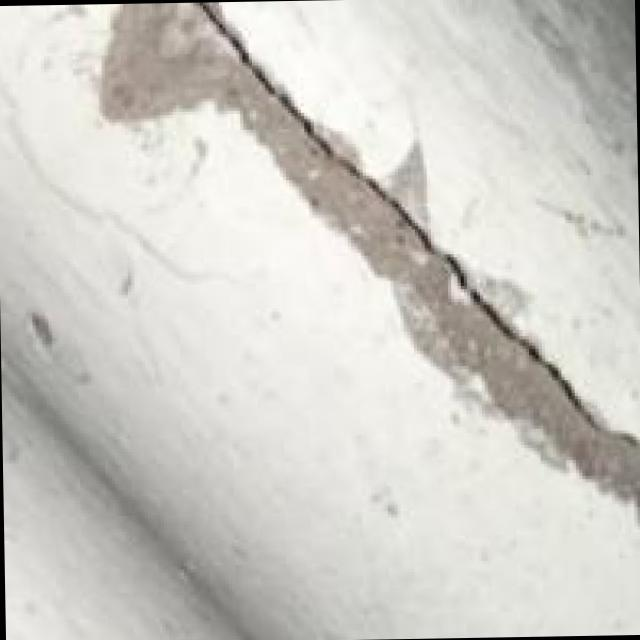crack: (176, 0, 640, 498)
